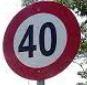Gioi han toc do: (3, 0, 82, 81)
